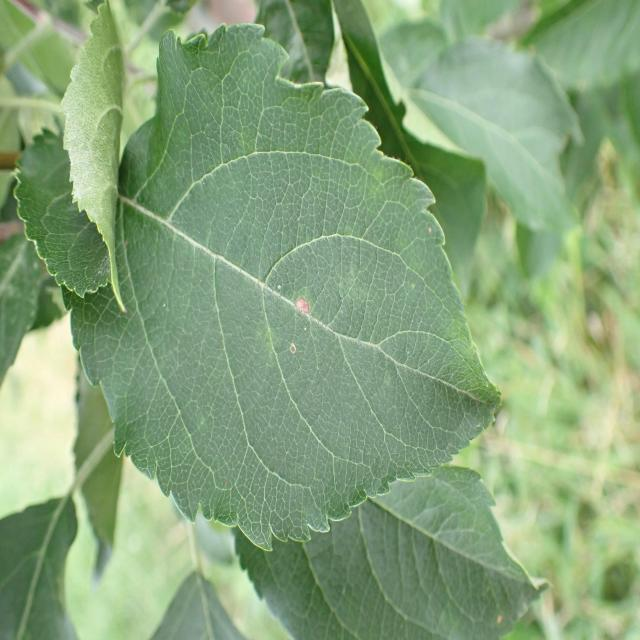Black Rot: (261, 265, 317, 330)
